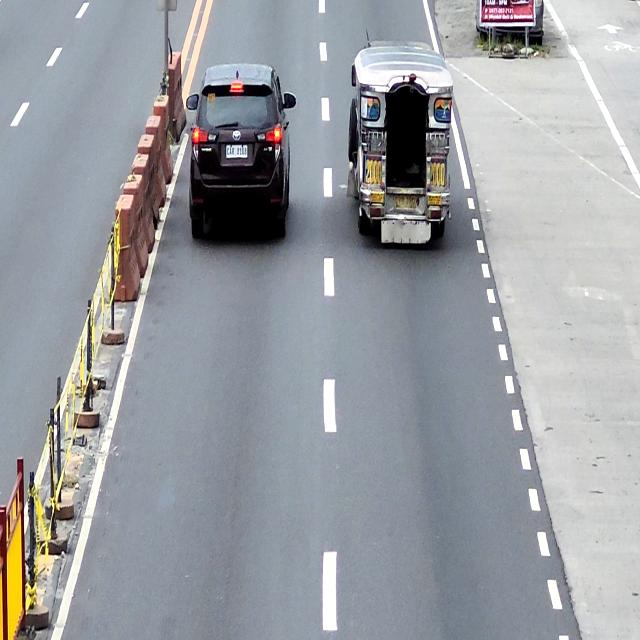Car: (185, 63, 296, 242)
Jeep: (348, 42, 454, 250)
License-Plate: (226, 144, 248, 160), (394, 195, 417, 209)
